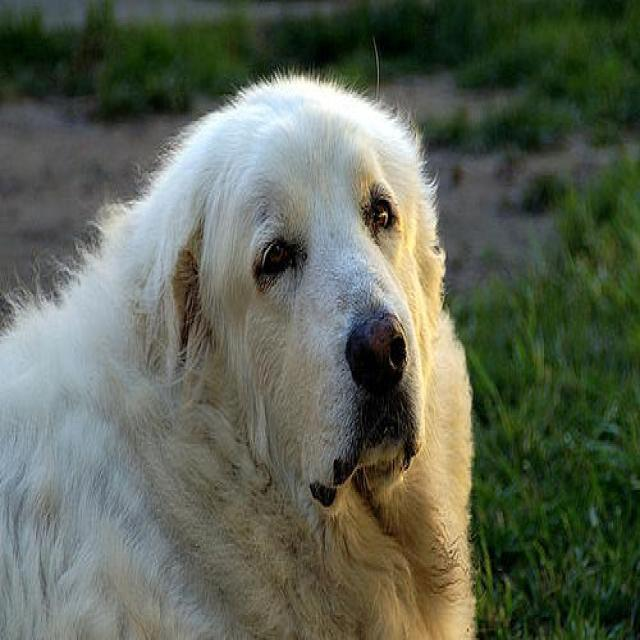dog-great_pyrenees: (1, 62, 486, 636)
